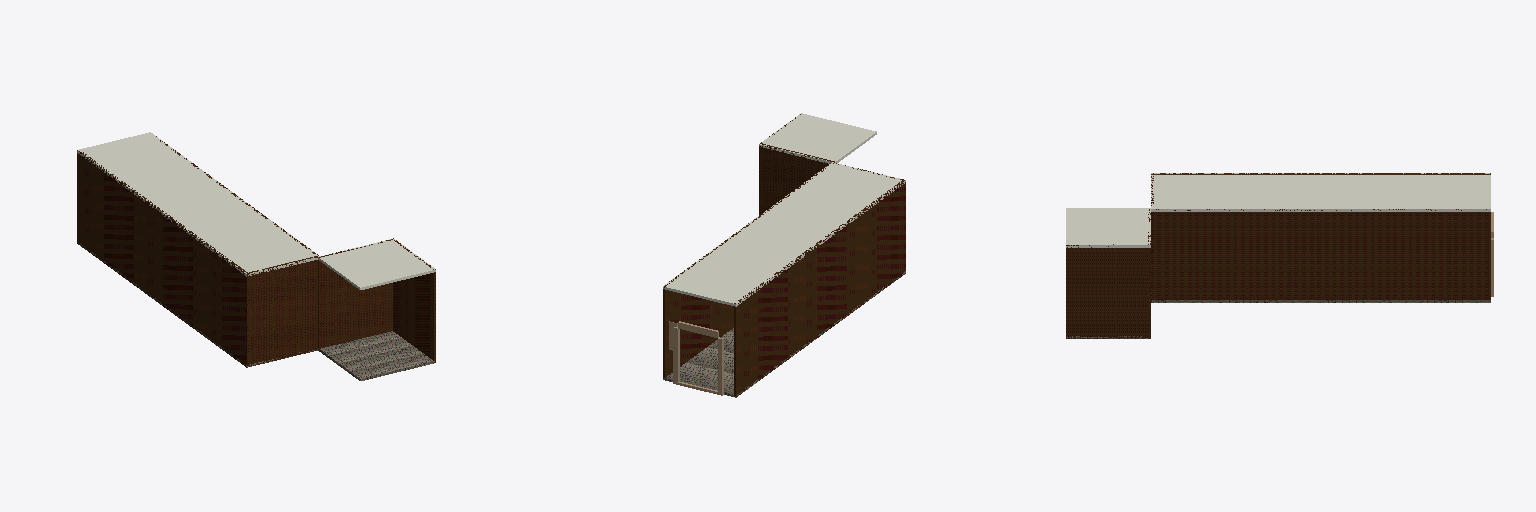
The picture shows the model from 3 angles: view 1: azimuth 30°, elevation 25°; view 2: azimuth 150°, elevation 25°; view 3: azimuth 270°, elevation 25°; orthographic projection.
Visible parts, largest first — view 1: Wall_L, Ceiling, Wall_BackHint, Wall_Turn_Back, Ceiling_Turn, Floor_Turn, Wall_Turn_End; view 2: Wall_L, Ceiling, Wall_R, Ceiling_Turn, Wall_Turn_Back, Floor; view 3: Wall_R, Ceiling, Wall_Turn_End, Ceiling_Turn, Floor, Wall_L.
Boxes of the visible parts, x1=… form: Wall_L: x1=77, y1=150, x2=248, y2=364; Ceiling: x1=77, y1=132, x2=319, y2=276; Wall_BackHint: x1=245, y1=255, x2=318, y2=367; Wall_Turn_Back: x1=318, y1=239, x2=392, y2=348; Ceiling_Turn: x1=318, y1=239, x2=435, y2=289; Floor_Turn: x1=318, y1=331, x2=434, y2=380; Wall_Turn_End: x1=392, y1=238, x2=435, y2=362; Wall_L: x1=734, y1=179, x2=905, y2=396; Ceiling: x1=663, y1=162, x2=905, y2=306; Wall_R: x1=663, y1=163, x2=830, y2=377; Ceiling_Turn: x1=759, y1=113, x2=876, y2=163; Wall_Turn_Back: x1=759, y1=143, x2=834, y2=213; Floor: x1=663, y1=271, x2=905, y2=397; Wall_R: x1=1151, y1=209, x2=1490, y2=302; Ceiling: x1=1151, y1=173, x2=1490, y2=211; Wall_Turn_End: x1=1066, y1=244, x2=1150, y2=338; Ceiling_Turn: x1=1066, y1=208, x2=1150, y2=247; Floor: x1=1151, y1=300, x2=1490, y2=302; Wall_L: x1=1151, y1=173, x2=1490, y2=174.
Bounding box in the file's own units: 6 × 3.65 × 15.1.
4 materials, 2 textured.